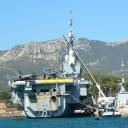Portanaves: (7, 8, 95, 121)
